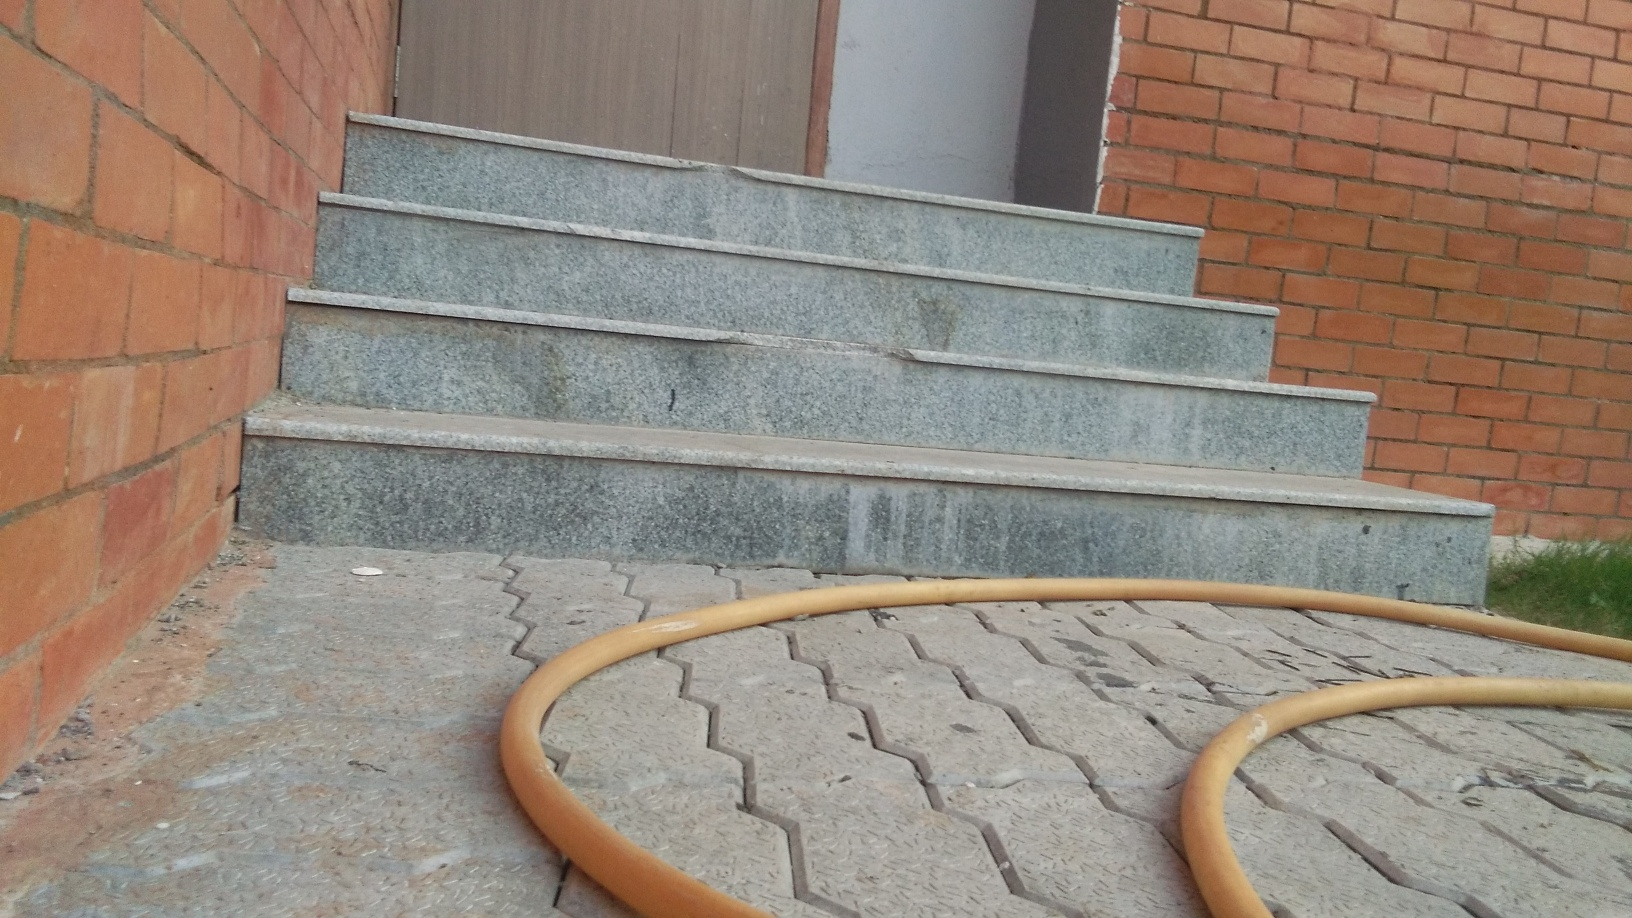stairs_up: (266, 109, 1506, 623)
